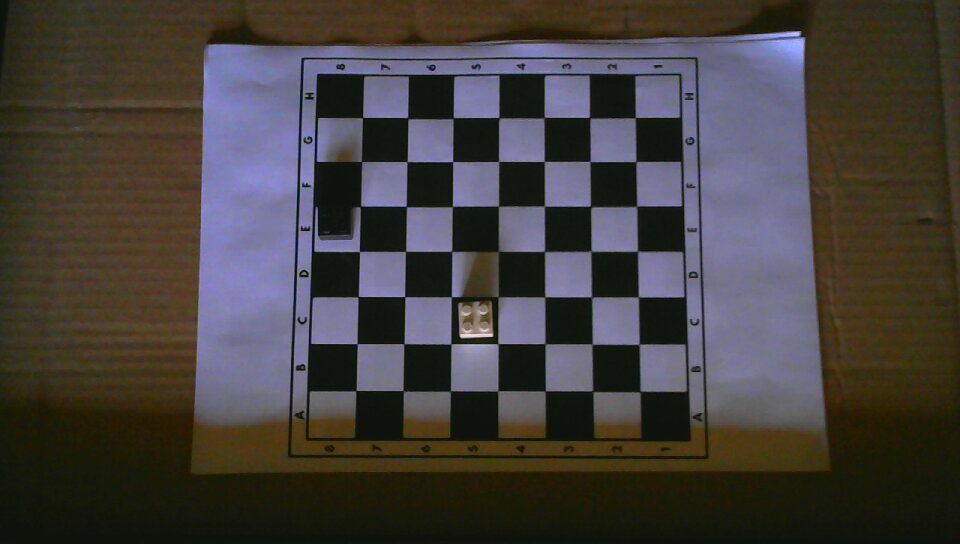bp: (314, 201, 355, 242)
wp: (456, 297, 495, 338)
